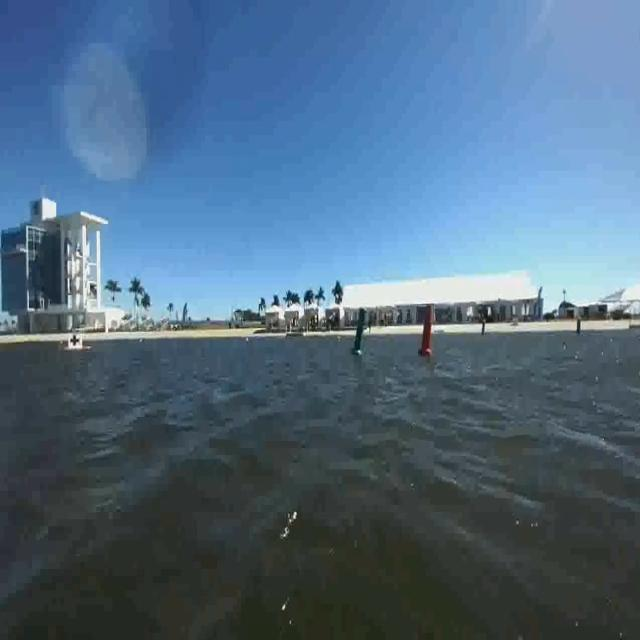green-column-buoy: (351, 307, 369, 357)
red-column-buoy: (418, 307, 437, 358)
